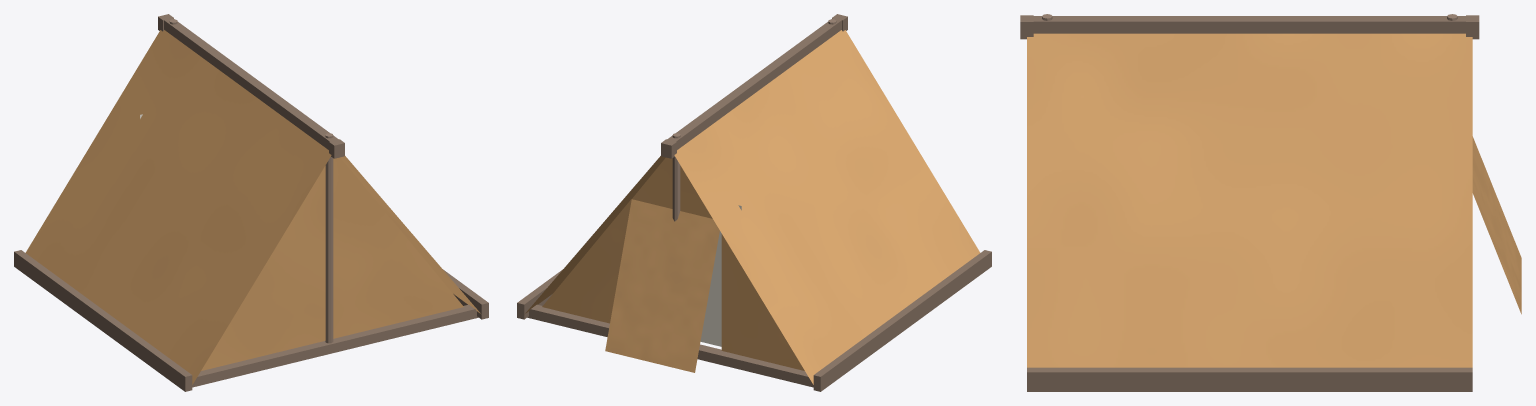
File: tent.glb
3 renders of one model, left to right at view 1: azimuth 30°, elevation 25°; view 2: azimuth 150°, elevation 25°; view 3: azimuth 270°, elevation 25°, orthographic. The views are drawn at different scales.
Parts seen in each view (by area): view 1: Tent_Body, Tent_Poles; view 2: Tent_Body, Tent_Flap, Tent_Inner, Tent_Poles; view 3: Tent_Body, Tent_Flap.
Boxes of the visible parts, x1,y1,x2,y2 form: Tent_Body: [14, 14, 488, 391]; Tent_Poles: [169, 19, 333, 343]; Tent_Body: [517, 14, 991, 391]; Tent_Flap: [605, 199, 719, 372]; Tent_Inner: [700, 205, 741, 346]; Tent_Poles: [672, 19, 836, 221]; Tent_Body: [1020, 15, 1479, 391]; Tent_Flap: [1472, 136, 1521, 314].
Bounding box in the file's own units: 3.38 × 2.3 × 3.71.
4 materials, 1 textured.
